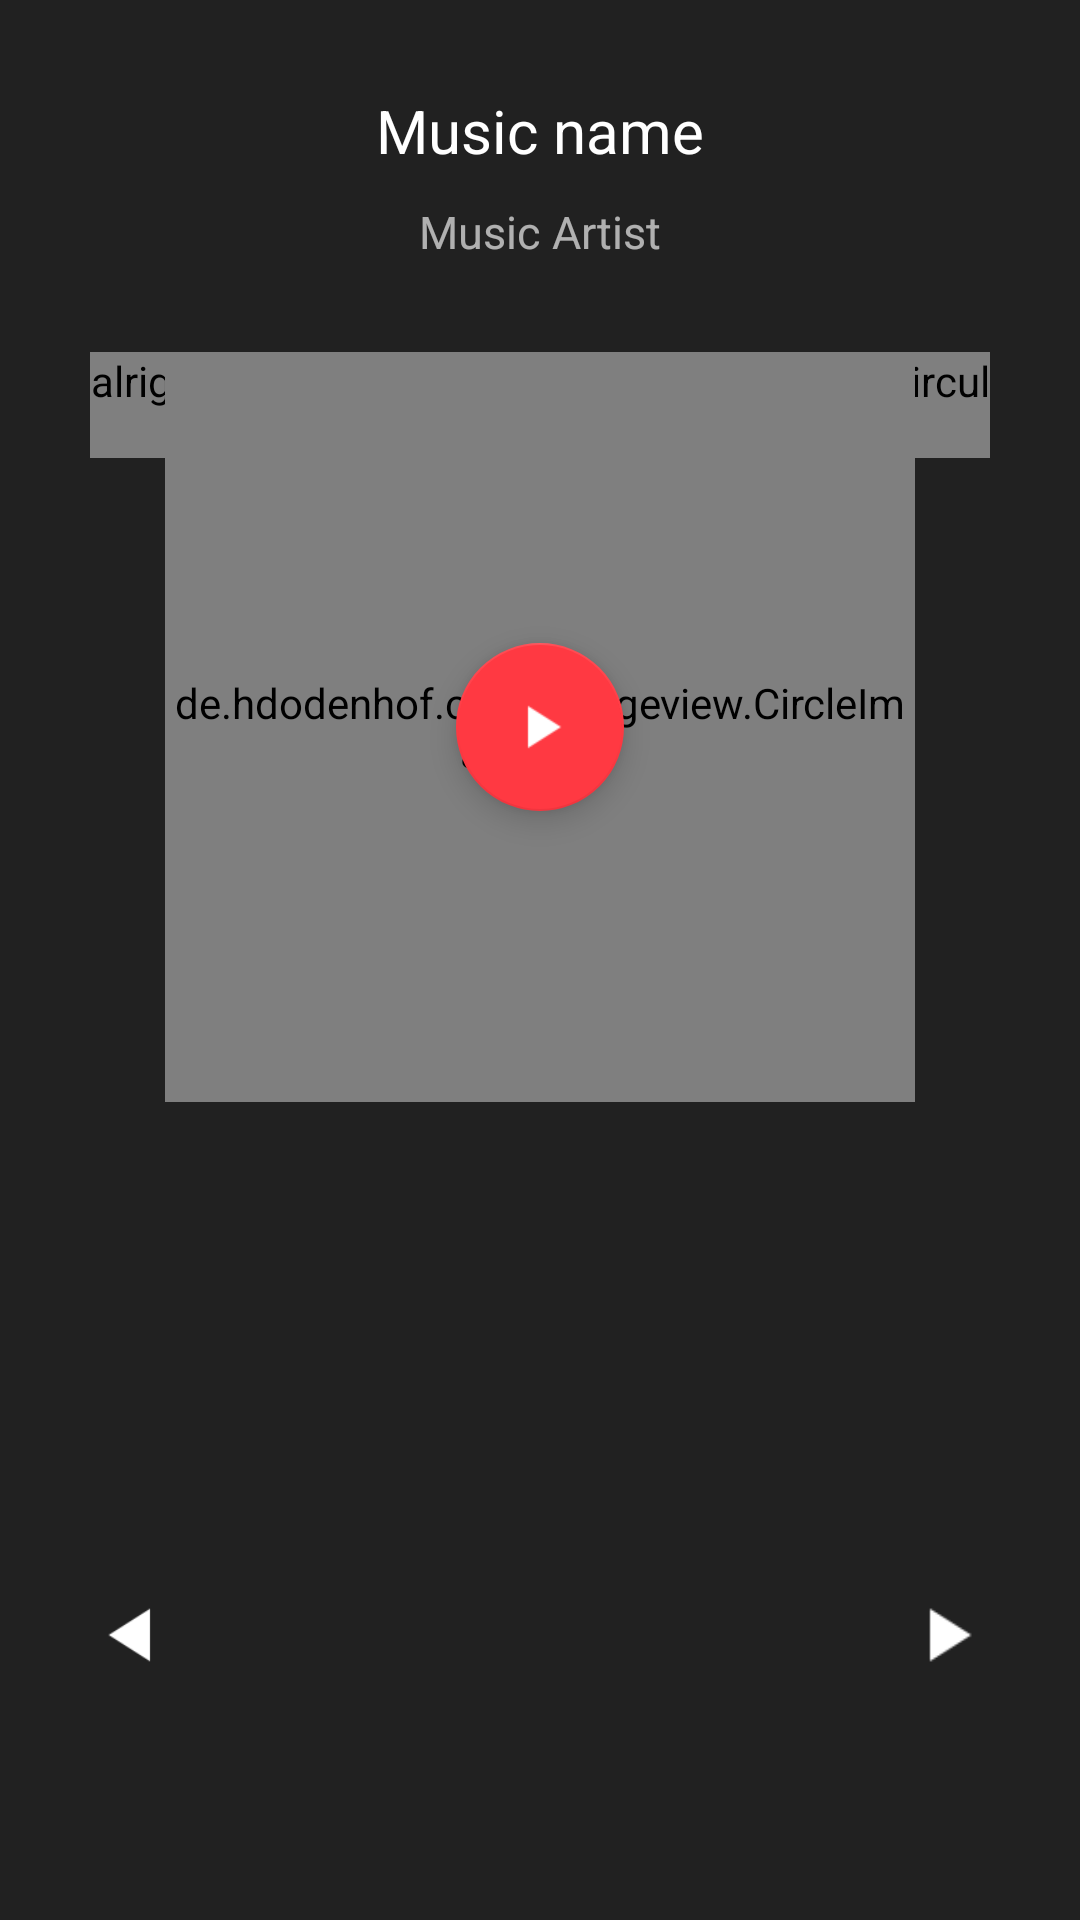

Icon click points for this 1080 x 1920 phone screenshot, format [x,y]:
arrow left: [129,1635]
play arrow: [540,727], [950,1635]
